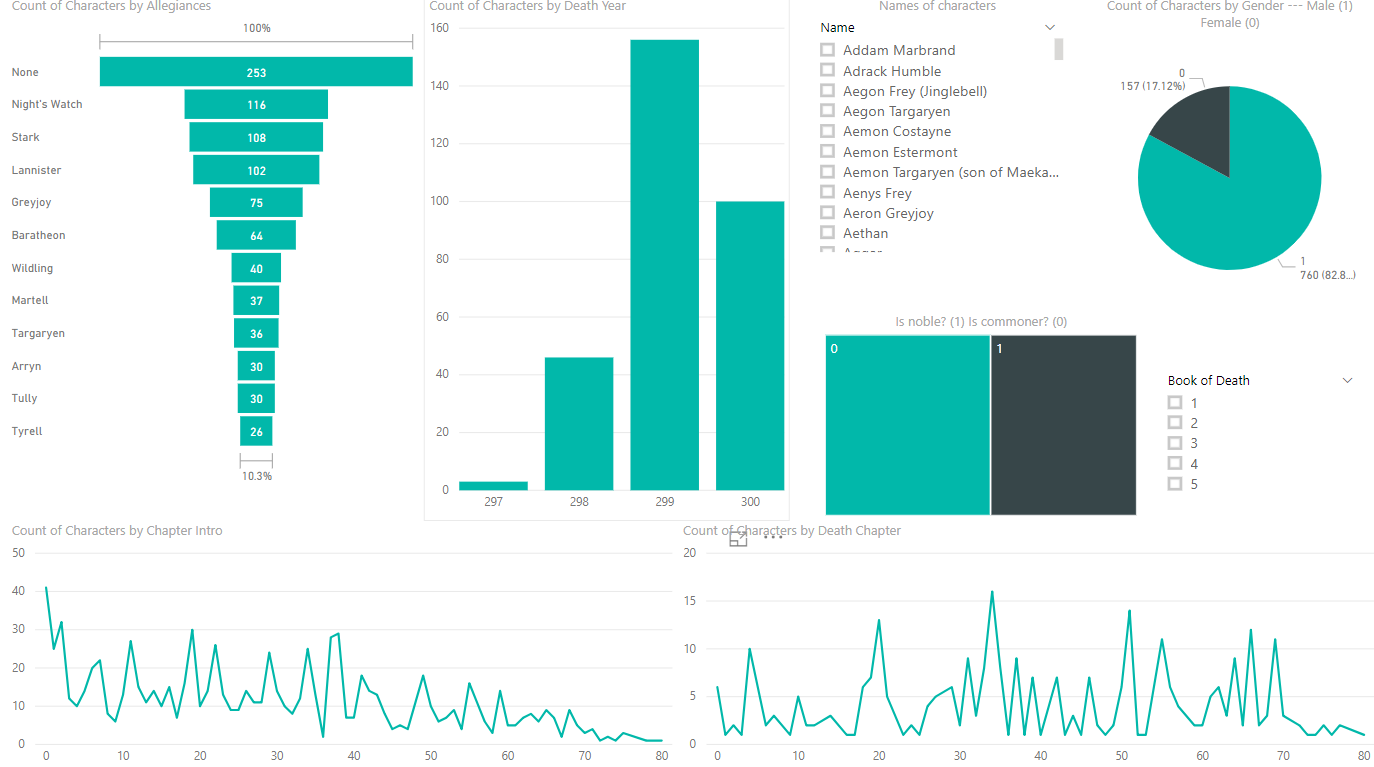

The page's visual inventory and layout, read from the dashboard file:
{"tool":"powerbi","page":{"name":"Page 1","canvas":[1280,720],"ordinal":1},"visuals":[{"type":"funnel","title":"Count of Characters by Allegiances","fields":{"Category":["character-deaths.Allegiances"],"Y":["Count(character-deaths.Character_ID)"]},"box":[10.4,0,386,456.5],"z":1},{"type":"lineChart","title":"Count of Characters by Chapter Intro","fields":{"Category":["character-deaths.Book Intro Chapter"],"Y":["Count(character-deaths.Character_ID)"]},"box":[10.4,485.4,620.6,234.6],"z":2},{"type":"columnChart","title":"Count of Characters by Death Year","fields":{"Category":["character-deaths.Death Year"],"Y":["Count(character-deaths.Character_ID)"]},"box":[396.4,0,338.6,485.4],"z":3},{"type":"lineChart","title":"Count of Characters by Death Chapter","fields":{"Category":["character-deaths.Death Chapter"],"Y":["Count(character-deaths.Character_ID)"]},"box":[631,485.4,649.5,234.6],"z":4},{"type":"slicer","title":"Names of characters","fields":{"Values":["character-deaths.Name"]},"box":[750,0,242.7,242.7],"z":5},{"type":"pieChart","title":"Count of Characters by Gender  --- Male (1) Female (0)","fields":{"Y":["Count(character-deaths.Character_ID)"],"Series":["character-deaths.Gender"]},"box":[1003.1,0,277.4,305.1],"z":6},{"type":"treemap","title":"Is noble? (1) Is commoner? (0)","fields":{"Values":["Count(character-deaths.Character_ID)"],"Group":["character-deaths.Nobility"]},"box":[762.8,292.4,298.2,193],"z":7},{"type":"slicer","fields":{"Values":["character-deaths.Book of Death"]},"box":[1071.3,342.1,196.5,142.2],"z":8}]}

Visuals, with their boxes in screenshot pixels (x1, y1, x2, y2), scaled from the page's 1280x720 canvas onto the 1374x767 screenshot:
"Count of Characters by Allegiances" funnel: (11, 0, 426, 486)
"Count of Characters by Chapter Intro" lineChart: (11, 517, 677, 766)
"Count of Characters by Death Year" columnChart: (426, 0, 789, 517)
"Count of Characters by Death Chapter" lineChart: (677, 517, 1373, 766)
"Names of characters" slicer: (805, 0, 1066, 259)
"Count of Characters by Gender  --- Male (1) Female (0)" pieChart: (1077, 0, 1373, 325)
"Is noble? (1) Is commoner? (0)" treemap: (819, 311, 1139, 517)
slicer - character-deaths.Book of Death: (1150, 364, 1361, 516)
